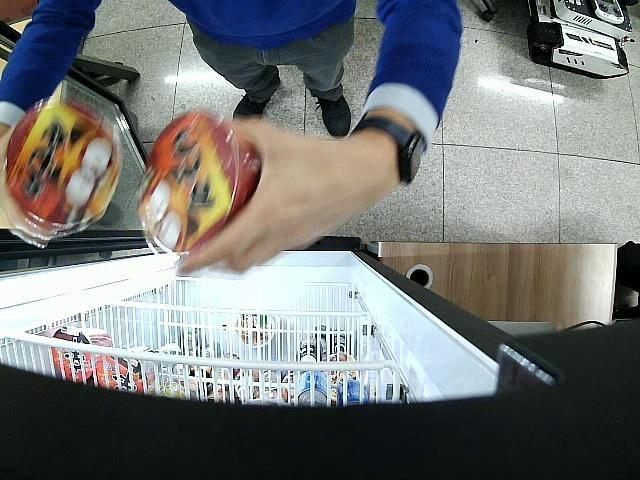05_nuguri_L: (139, 108, 263, 255), (5, 104, 124, 238)
